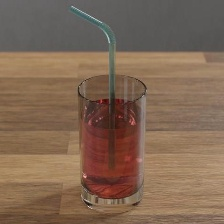drinking_straw: (66, 1, 121, 175)
glass: (73, 69, 152, 220)
